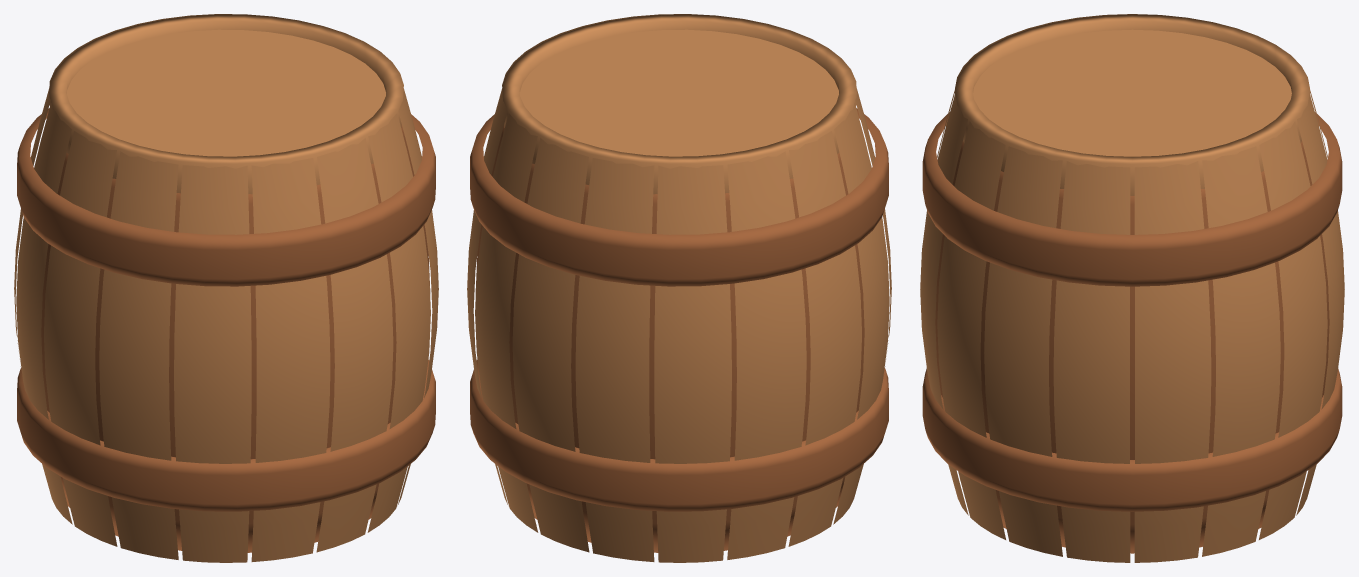
Rendered from PROP_BARREL.glb.
3 renders of one model, left to right at view 1: azimuth 30°, elevation 25°; view 2: azimuth 150°, elevation 25°; view 3: azimuth 270°, elevation 25°, orthographic.
Visible parts, largest first — view 1: staves, bands, lid, chime, core; view 2: staves, bands, lid, chime, core; view 3: staves, bands, lid, chime, core.
Boxes of the visible parts, left/top/right/bottom form: staves: left=14, top=88, right=438, bottom=562; bands: left=17, top=108, right=435, bottom=511; lid: left=67, top=29, right=385, bottom=156; chime: left=49, top=14, right=403, bottom=194; core: left=41, top=124, right=430, bottom=552; staves: left=467, top=88, right=891, bottom=562; bands: left=470, top=108, right=888, bottom=511; lid: left=520, top=29, right=838, bottom=156; chime: left=502, top=14, right=856, bottom=194; core: left=475, top=124, right=864, bottom=552; staves: left=920, top=90, right=1344, bottom=562; bands: left=922, top=112, right=1342, bottom=511; lid: left=973, top=29, right=1291, bottom=156; chime: left=955, top=14, right=1309, bottom=195; core: left=935, top=141, right=1329, bottom=553.
Bounding box in the file's own units: 3.18 × 3.3 × 3.18.
